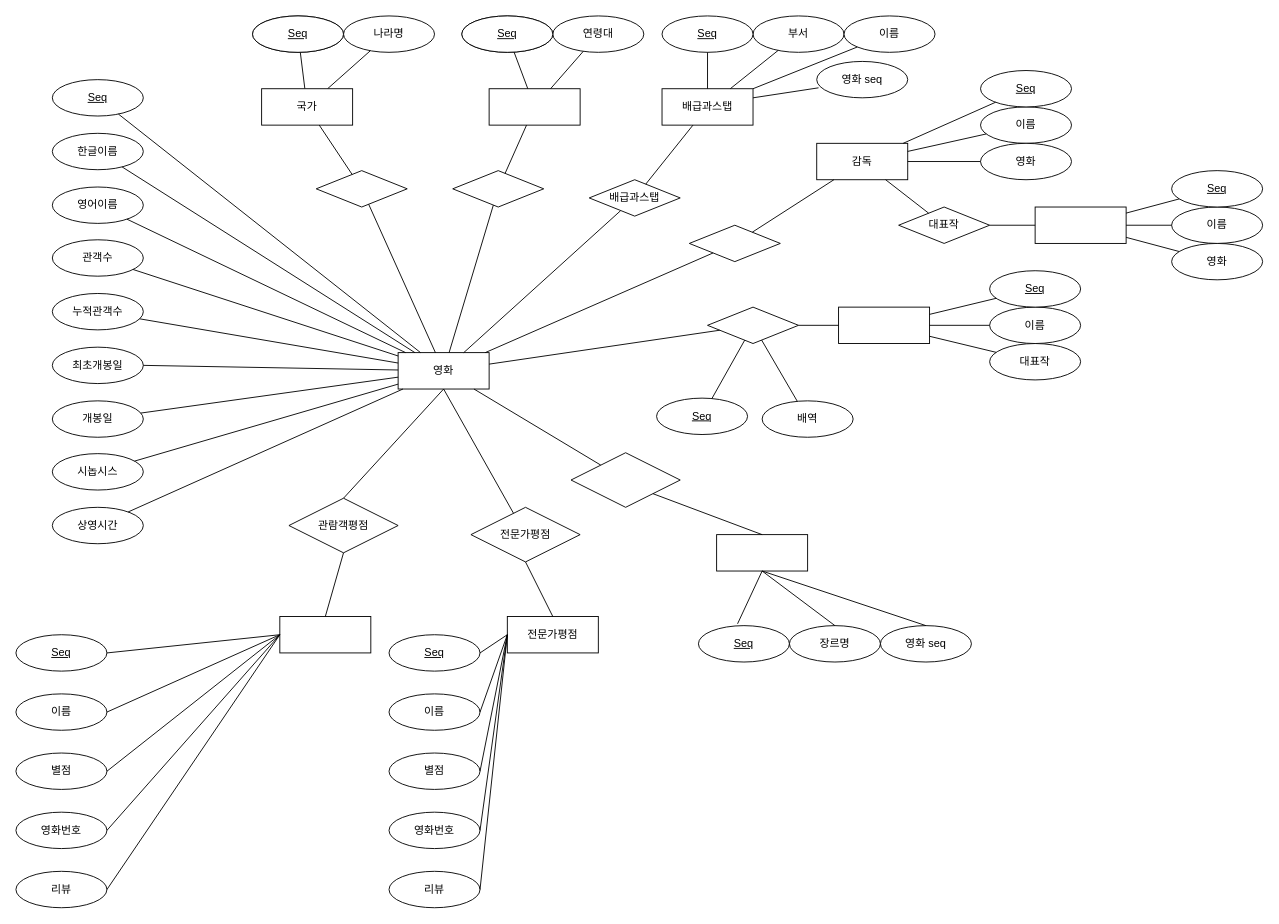
This 1279x924 diagram has some shape labels left out. The shapes that lost their labels are listed below. From the top down, each one's box as (x1, y1, x2, y2) in pixels, then its label:
(488, 88, 580, 125): 등급
(315, 170, 407, 207): 제작국가
(452, 170, 544, 207): 시청자등급
(688, 224, 780, 262): 영화감독
(1034, 206, 1126, 243): 감독(대표작)
(707, 306, 799, 344): 출연배우
(838, 306, 930, 344): 배우
(570, 452, 680, 507): 영화 장르
(716, 534, 808, 571): 장르
(279, 616, 371, 653): 네티즌평점
